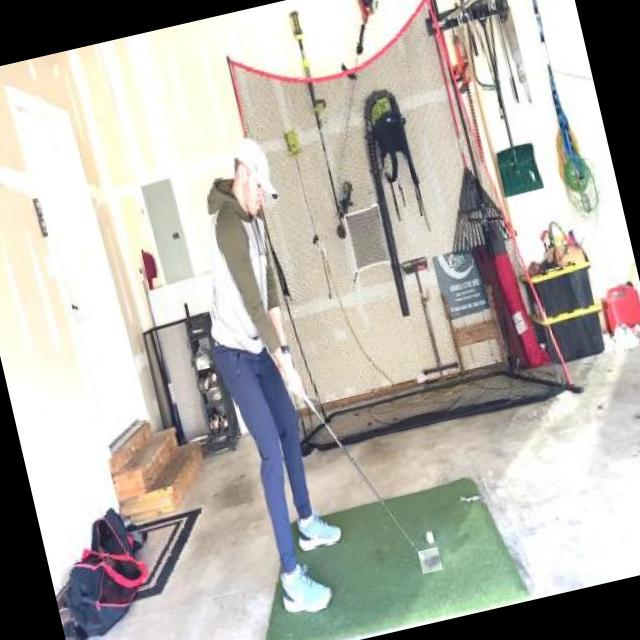club head: (418, 546, 442, 574)
